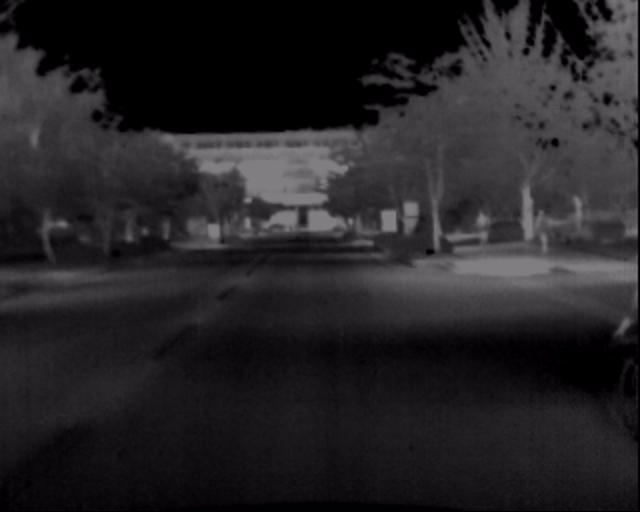person: (539, 206, 559, 261), (474, 208, 495, 250)
